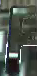Parking: (3, 3, 36, 75)
